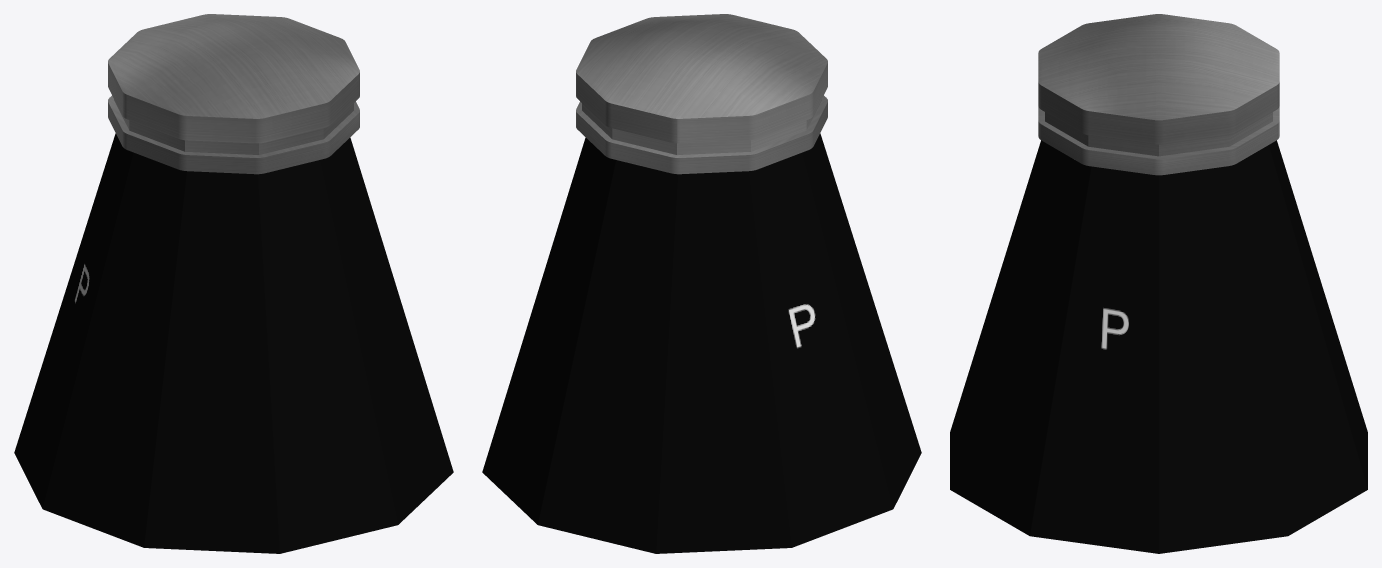
The model's file is Pepper Shaker.fbx.
The picture shows the model from 3 angles, left to right: view 1: azimuth 30°, elevation 25°; view 2: azimuth 150°, elevation 25°; view 3: azimuth 270°, elevation 25°; orthographic projection.
Visible parts, largest first — view 1: Pepper_Shaker; view 2: Pepper_Shaker; view 3: Pepper_Shaker.
Part boxes in pixels (x1,y1,x2,y2): Pepper_Shaker: [14, 14, 453, 553]; Pepper_Shaker: [482, 14, 921, 553]; Pepper_Shaker: [950, 14, 1367, 553].
Size of the model in its own units: 2.86 by 3 by 2.72.
Materials: 1 (1 with a texture image).
